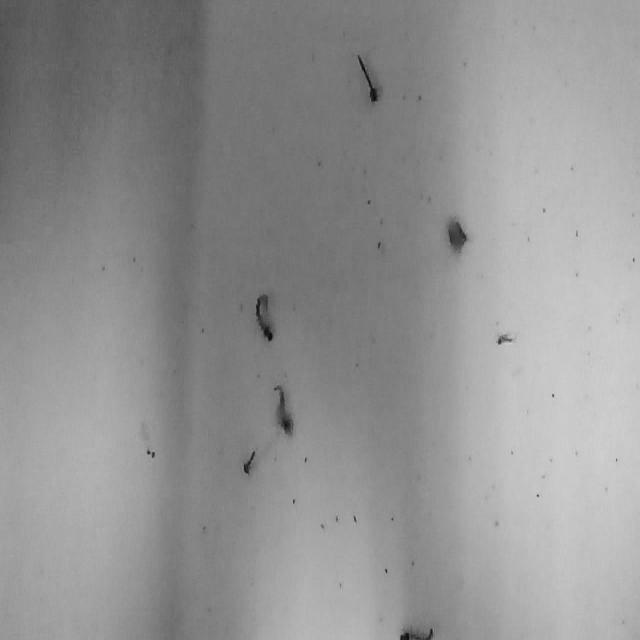larvas: (356, 52, 379, 104), (272, 384, 294, 436), (254, 292, 274, 342), (448, 218, 468, 252), (399, 626, 433, 640), (243, 450, 255, 474), (497, 332, 515, 344)
